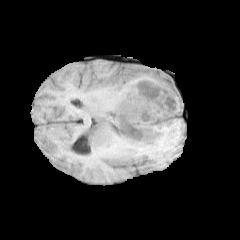glioma: (90, 66, 182, 160)
